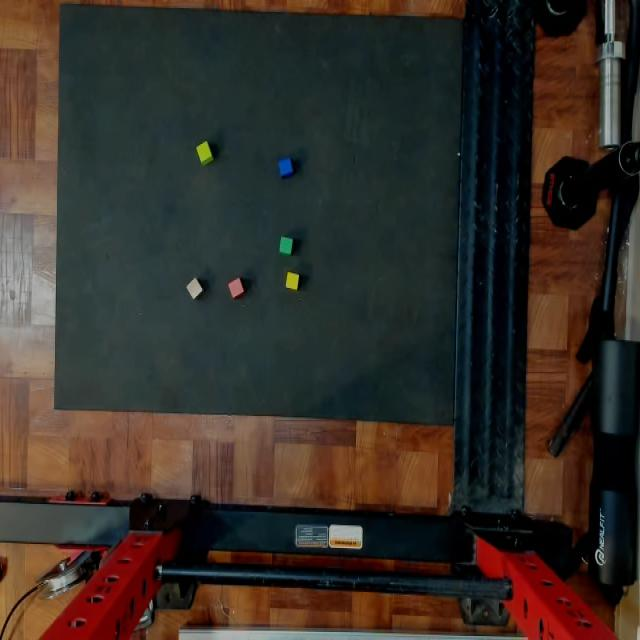block: (196, 141, 213, 164), (186, 279, 202, 299), (279, 236, 293, 255), (228, 279, 243, 296), (280, 159, 293, 176), (286, 273, 299, 289)
